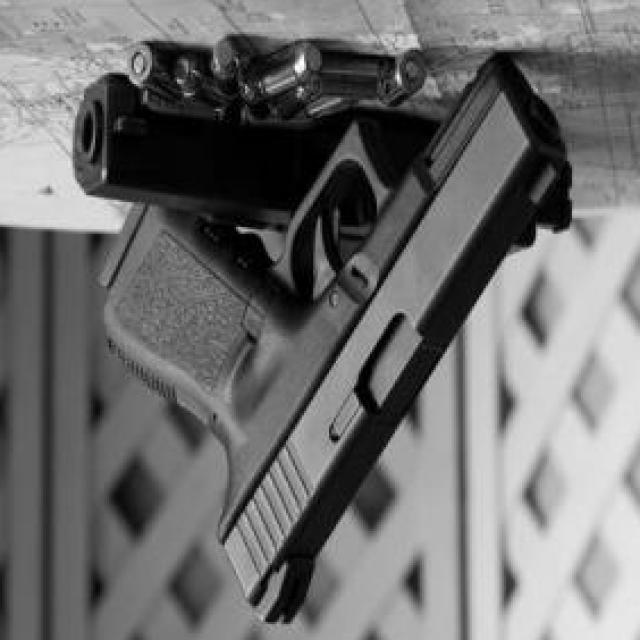pistol: (100, 50, 566, 624), (70, 76, 576, 256)
